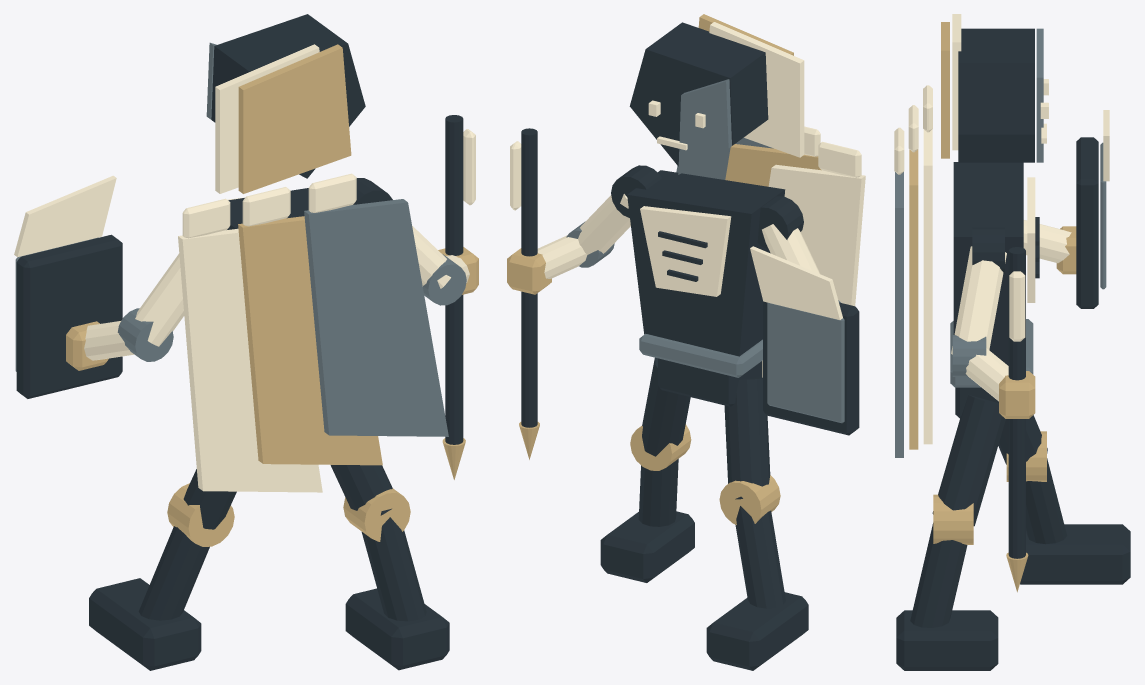
3 renders of one model, left to right at view 1: azimuth 30°, elevation 25°; view 2: azimuth 150°, elevation 25°; view 3: azimuth 270°, elevation 25°, orthographic. The views are drawn at different scales.
Parts seen in each view (by area): view 1: triplicate_coat_2, triplicate_coat_1, triplicate_coat_0, folio_back, duplicate_collar_1, L_shoe, folded_face, transfer_stylus, R_shoe, folio_peel, R_shin, L_shin (+16 smaller); view 2: carbon_torso, folded_face, folio_carbon, triplicate_coat_0, copy_bib, L_shoe, duplicate_collar_0, R_shoe, transfer_stylus, L_thigh, folio_peel, face_fold (+18 smaller); view 3: folded_face, carbon_torso, L_shoe, R_shoe, R_thigh, folio_back, transfer_stylus, R_shin, triplicate_coat_0, R_upper_arm, triplicate_coat_1, triplicate_coat_2 (+23 smaller).
Boxes of the visible parts, x1,y1,x2,y2 form: triplicate_coat_2: (304,199,448,436); triplicate_coat_1: (238,216,382,465); triplicate_coat_0: (178,228,322,492); folio_back: (16,234,122,398); duplicate_collar_1: (238,44,351,193); L_shoe: (89,578,201,670); folded_face: (211,14,365,178); transfer_stylus: (445,115,463,444); R_shoe: (345,588,449,670); folio_peel: (14,175,116,257); R_shin: (361,517,426,621); L_shin: (138,526,209,620); carbon_torso: (627,170,785,356); folded_face: (629,22,768,166); folio_carbon: (767,302,844,423); triplicate_coat_0: (762,164,865,377); copy_bib: (640,206,731,296); L_shoe: (706,592,808,670); duplicate_collar_0: (709,22,804,157); R_shoe: (600,511,694,582); transfer_stylus: (521,128,537,427); L_thigh: (724,377,770,499); folio_peel: (750,246,842,319); face_fold: (678,79,731,174); folded_face: (958,28,1034,162); carbon_torso: (953,162,1023,365); L_shoe: (1020,524,1130,584); R_shoe: (896,610,998,670); R_thigh: (932,395,1005,526); folio_back: (1076,137,1098,308); transfer_stylus: (1008,247,1025,558); R_shin: (910,523,967,627); triplicate_coat_0: (923,129,932,444); R_upper_arm: (951,246,1006,354); triplicate_coat_1: (909,149,918,449); triplicate_coat_2: (895,172,903,457).
Size of the model in its own units: 1.43 by 2.02 by 0.7408.
